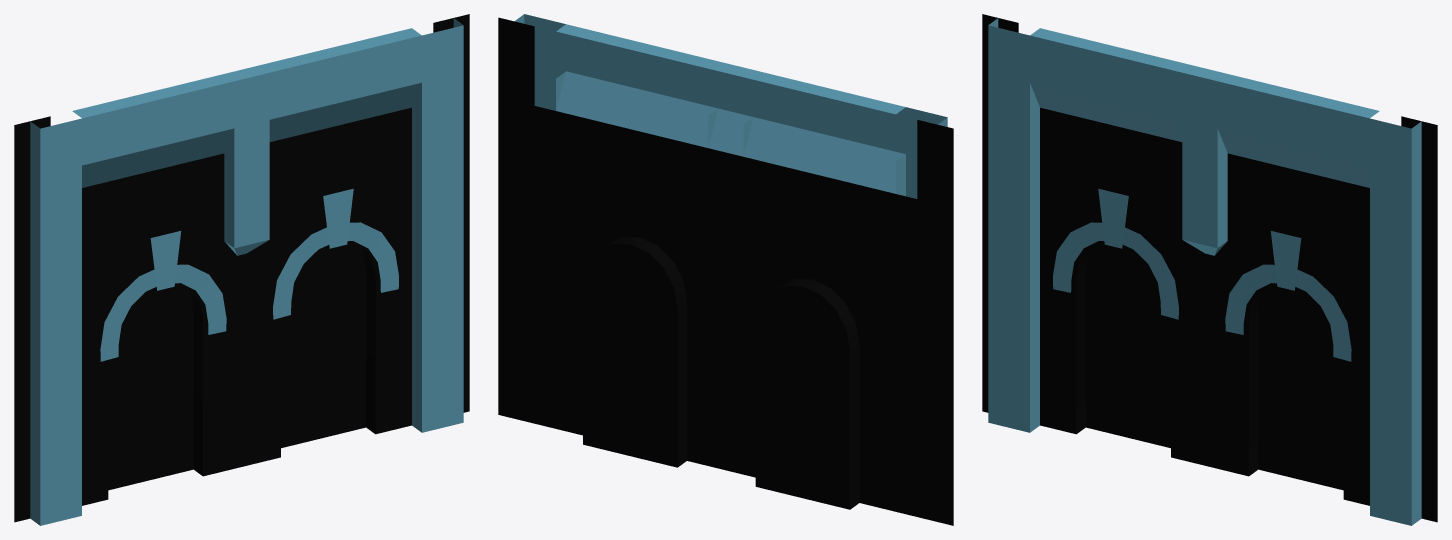
The model's file is wall1cb lod1.FBX.
3 views of the same model, side by side, from view 1: azimuth 30°, elevation 25°; view 2: azimuth 150°, elevation 25°; view 3: azimuth 330°, elevation 25° (orthographic).
Visible parts, largest first — view 1: Plane010; view 2: Plane010; view 3: Plane010.
Boxes of the visible parts, left/top/right/bottom form: Plane010: left=14, top=14, right=469, bottom=525; Plane010: left=498, top=14, right=953, bottom=525; Plane010: left=982, top=14, right=1437, bottom=525.
Bounding box in the file's own units: 6 × 5 × 0.4465.
